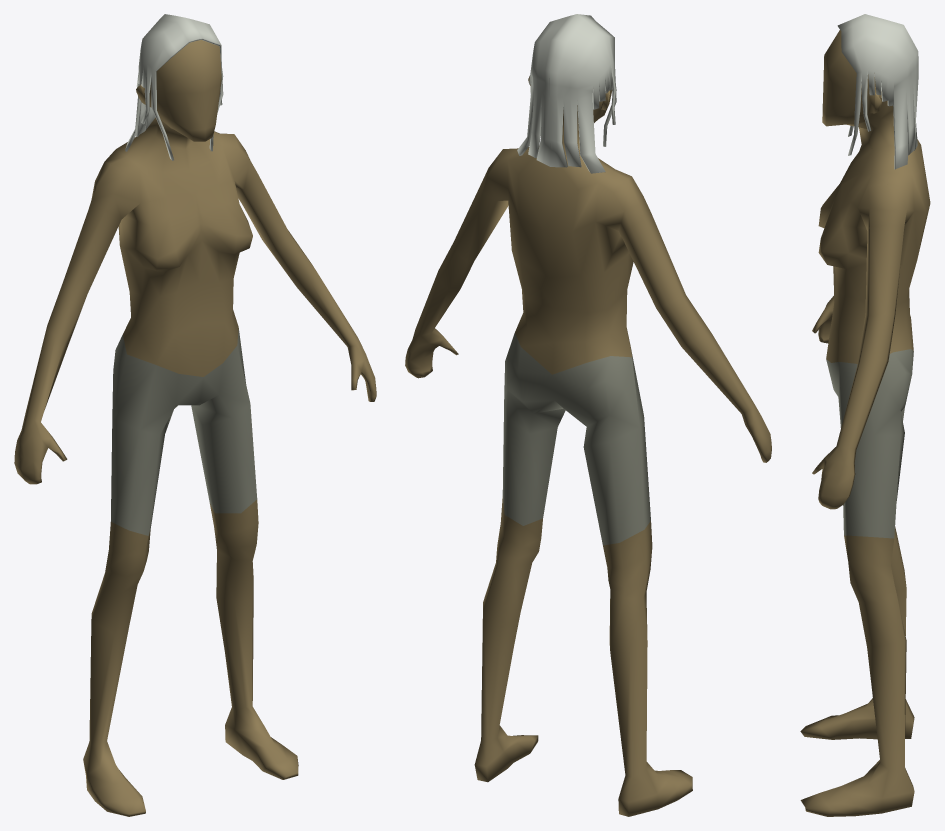
The model's file is MANGGAGAWAY no clothes.fbx.
The picture shows the model from 3 angles, left to right: view 1: azimuth 30°, elevation 25°; view 2: azimuth 150°, elevation 25°; view 3: azimuth 270°, elevation 25°; orthographic projection.
Parts seen in each view (by area): view 1: Manggagaway, Manggagaway pants, Manggagaway Hair; view 2: Manggagaway, Manggagaway pants, Manggagaway Hair; view 3: Manggagaway, Manggagaway pants, Manggagaway Hair.
Part boxes in pixels (box(x1,y1,x2,y2)): Manggagaway: box(14, 40, 376, 816); Manggagaway pants: box(111, 328, 257, 535); Manggagaway Hair: box(125, 14, 223, 160); Manggagaway: box(405, 76, 771, 816); Manggagaway pants: box(502, 333, 650, 545); Manggagaway Hair: box(517, 14, 616, 173); Manggagaway: box(800, 30, 930, 816); Manggagaway pants: box(826, 349, 913, 538); Manggagaway Hair: box(837, 14, 918, 169).
Size of the model in its own units: 137 by 278 by 43.24.
3 materials, 2 textured.
